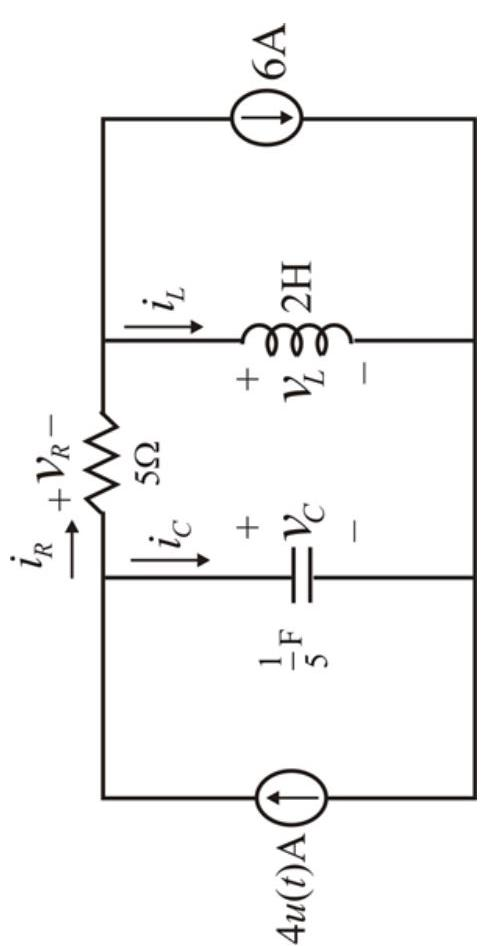inductor: (221, 310, 395, 366)
